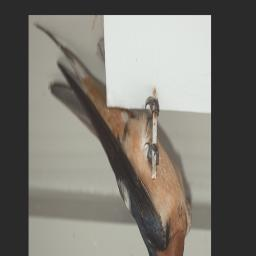Swallow: (32, 28, 187, 256)
